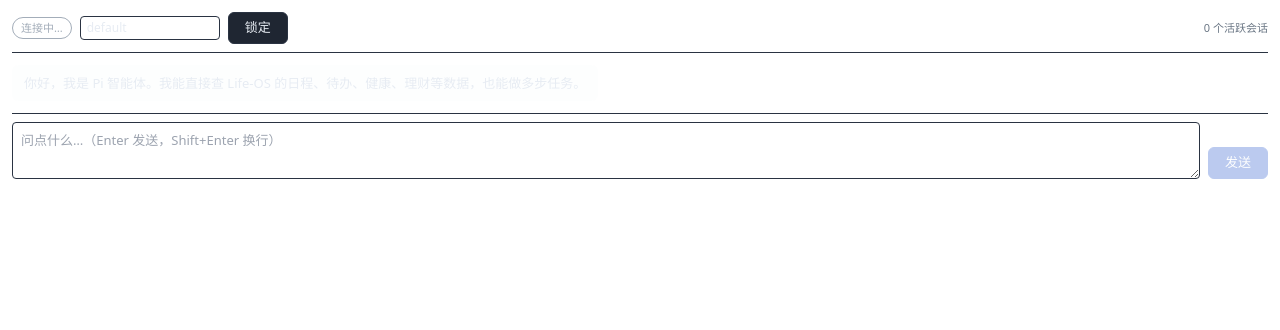
★ PiAgentApp › P3 · 流式报错 → 显示降级提示（含层级）
The width and height of the screenshot is (1280, 330).
Type "你好" into the text box with test id "pi-input" at [606, 151], box [12, 122, 1200, 179]
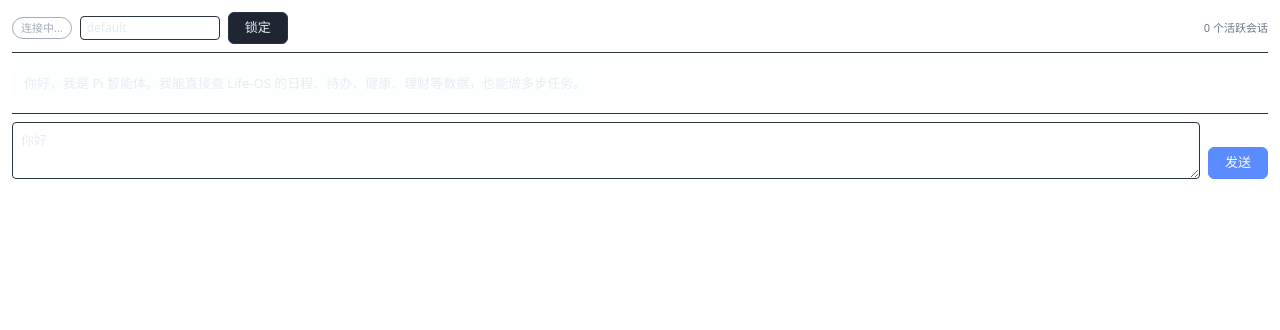
Click the button with test id "pi-send" at [1238, 163], box [1208, 147, 1268, 179]
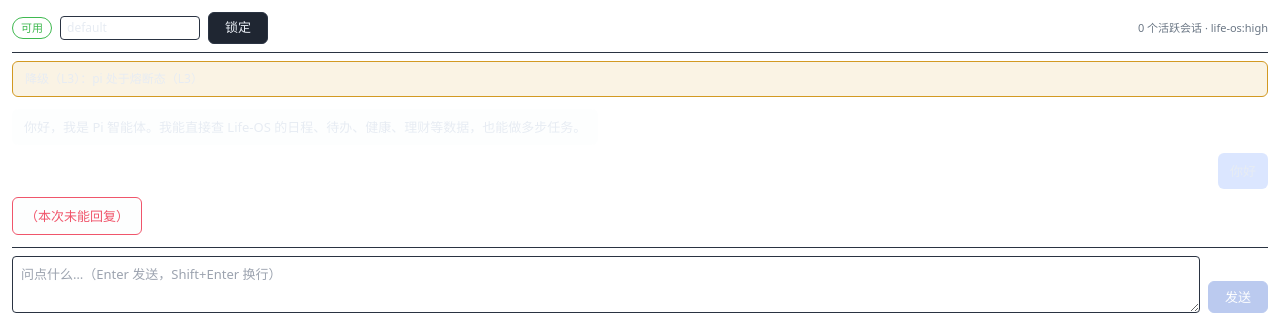
expect the text "降级（L3）：pi 处于熔断态（L3）" is shown: met, box [12, 61, 1268, 97]
